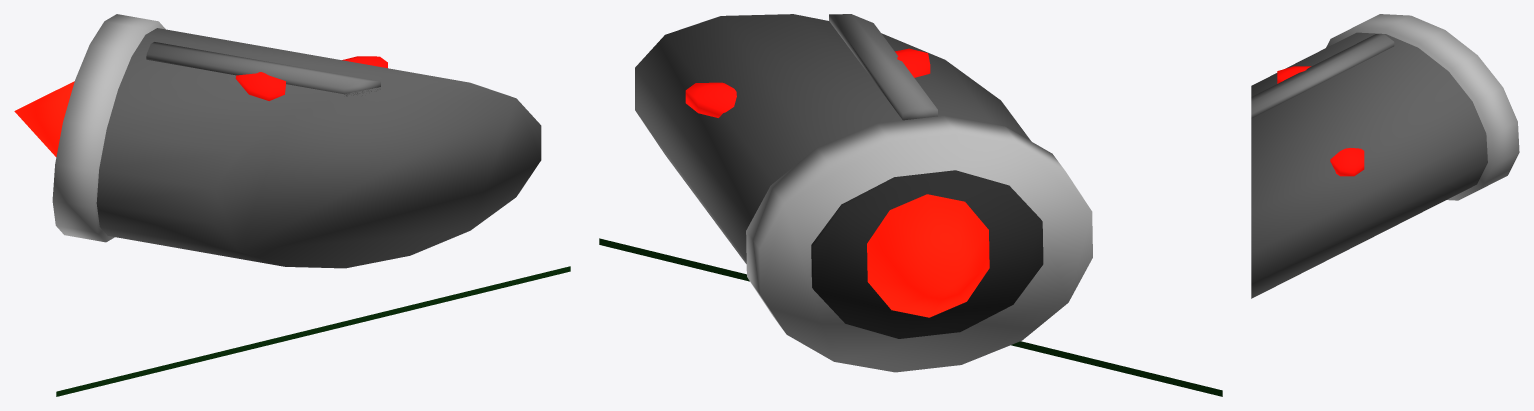
Rendered from newshj-55-f2.glb.
3 views of the same model, side by side, from view 1: azimuth 30°, elevation 25°; view 2: azimuth 150°, elevation 25°; view 3: azimuth 270°, elevation 25° (orthographic). The views are drawn at different scales.
Parts seen in each view (by area): view 1: newshj-55, newshj-55-lights-18; view 2: newshj-55, newshj-55-lights-18; view 3: newshj-55, newshj-55-lights-18.
Boxes of the visible parts, box(x1,y1,x2,y2) form: newshj-55: box(14, 14, 570, 396); newshj-55-lights-18: box(235, 56, 387, 100); newshj-55: box(599, 14, 1222, 396); newshj-55-lights-18: box(685, 48, 930, 117); newshj-55: box(1251, 14, 1519, 298); newshj-55-lights-18: box(1277, 66, 1364, 176).
Bounding box in the file's own units: 2 × 0.9447 × 1.05.
